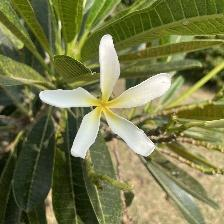champaka: (38, 34, 177, 163)
